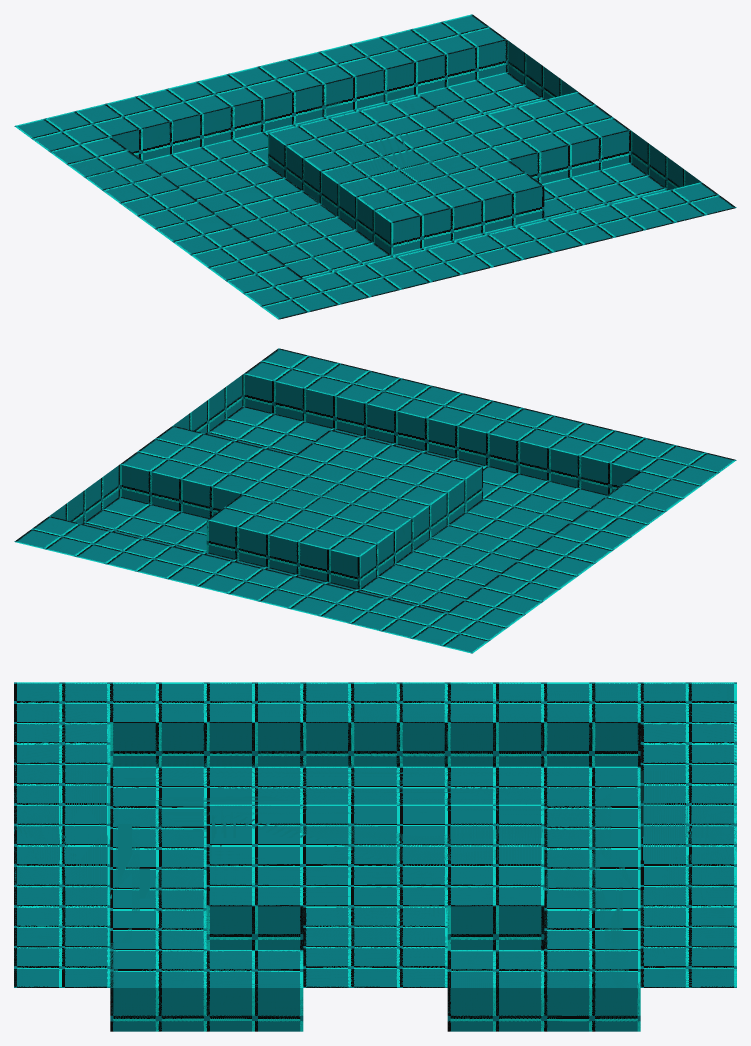
File: Dungeon Floor Water T.dae
3 renders of one model, top to bottom at view 1: azimuth 30°, elevation 25°; view 2: azimuth 150°, elevation 25°; view 3: azimuth 270°, elevation 25°, orthographic. The views are drawn at different scales.
Parts seen in each view (by area): view 1: group_0; view 2: group_0; view 3: group_0.
Part boxes in pixels (x1,y1,x2,y2): group_0: (14, 14, 736, 319); group_0: (14, 348, 736, 653); group_0: (14, 682, 736, 1031).
Size of the model in its own units: 591 by 591 by 39.37.
2 materials, 1 textured.
